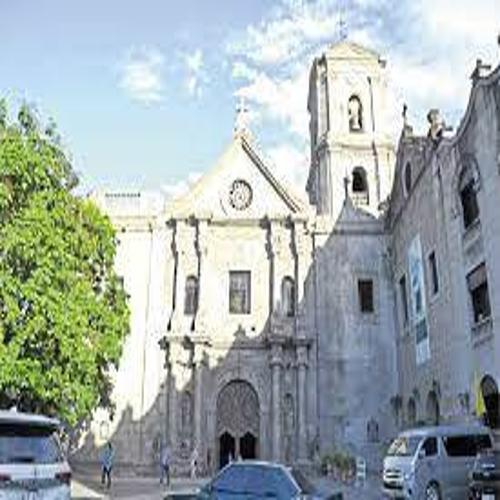San Agustin Church: (150, 10, 410, 482)
